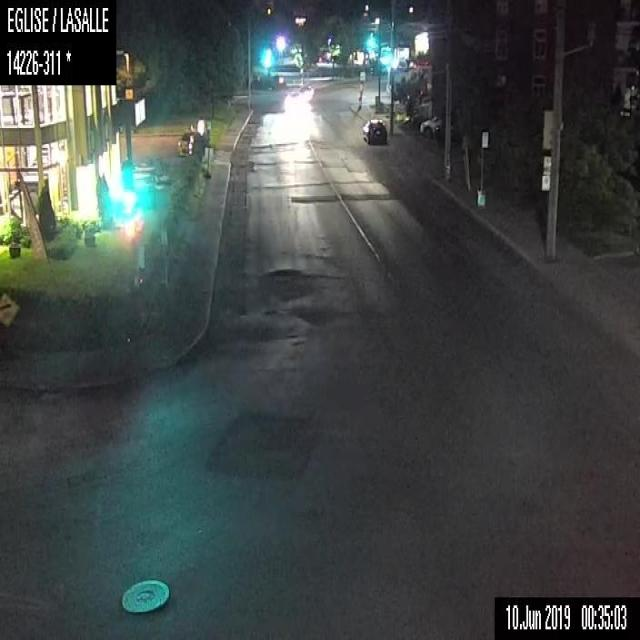vehicle: (360, 117, 386, 147), (175, 122, 198, 152), (420, 114, 443, 135)
